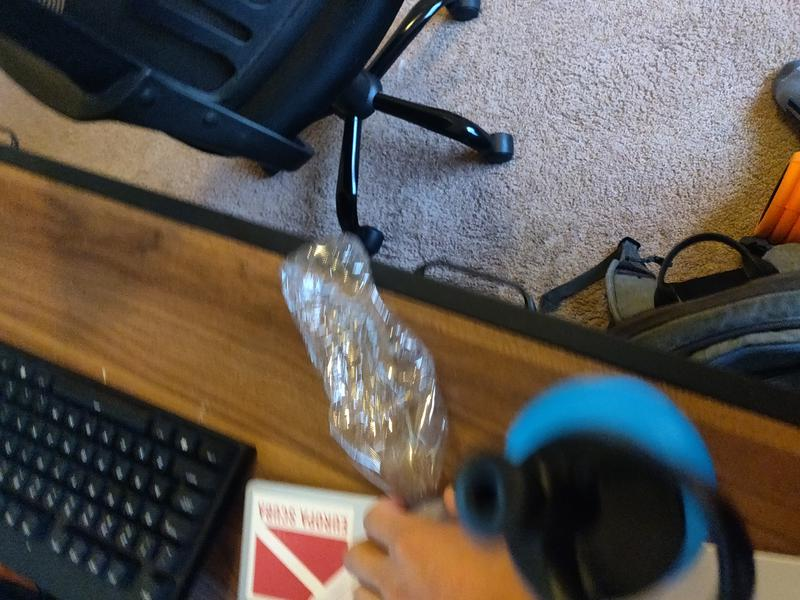bottle: (280, 233, 446, 524)
